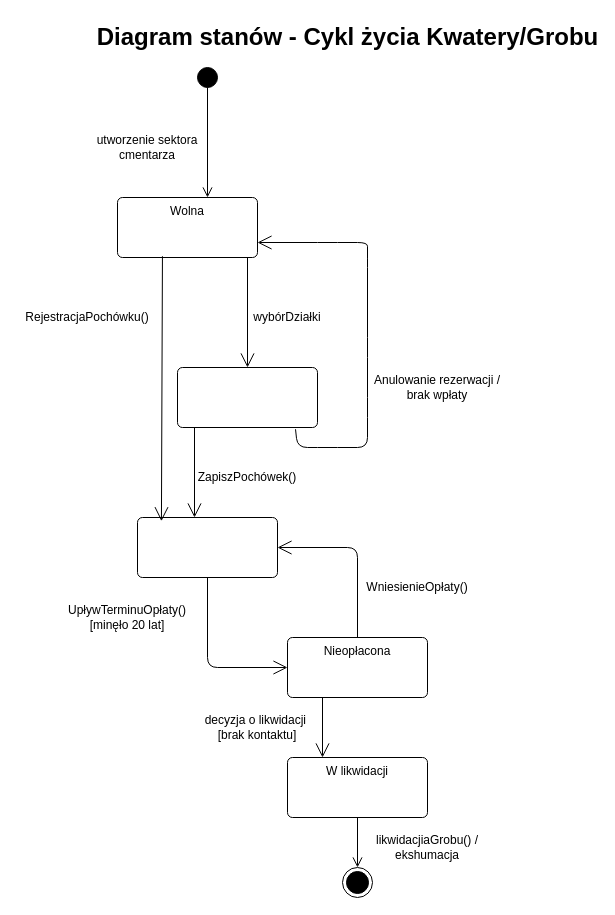
Image size: 615x915. Some labels were removed from this diagram. The shapes that lost their labels are listed below. From the top down, each one's centre as x and y in pixels, then its label:
point 247,397: Zarezerwowana
point 207,547: Zajęta
